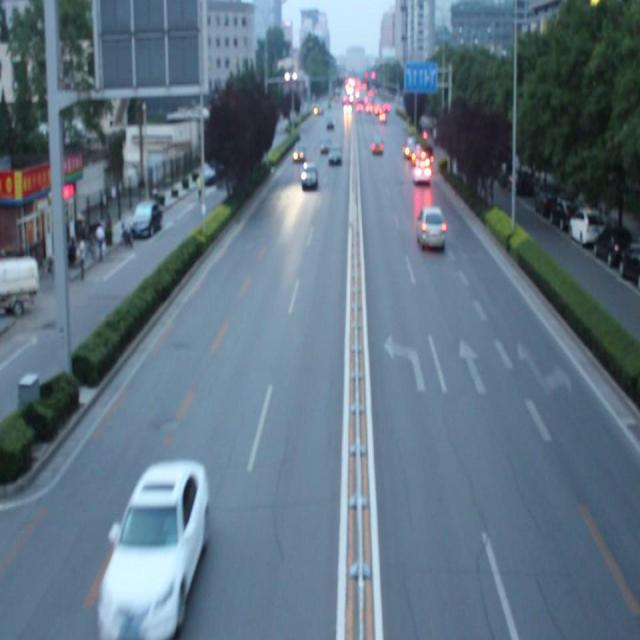car: (99, 459, 207, 627), (416, 205, 446, 248)
